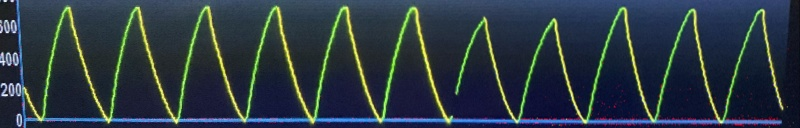normal_volume: (25, 0, 800, 128)
